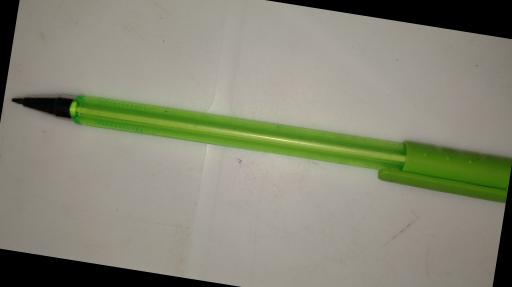pen: (5, 78, 512, 203)
